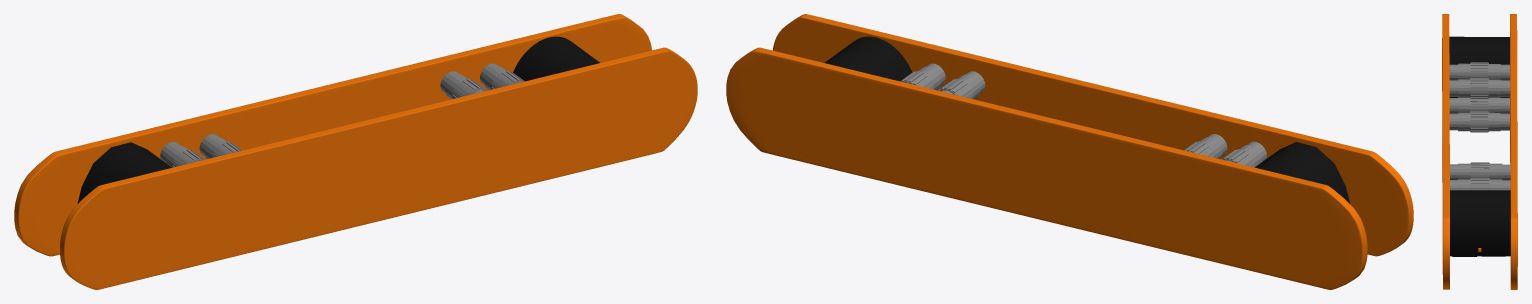
Rendered from zone2.FBX.
3 views of the same model, side by side, from view 1: azimuth 30°, elevation 25°; view 2: azimuth 150°, elevation 25°; view 3: azimuth 270°, elevation 25° (orthographic). The views are drawn at different scales.
Visible parts, largest first — view 1: yellow, rubber, metal; view 2: yellow, rubber, metal; view 3: metal, rubber, yellow.
Boxes of the visible parts, <box> form: yellow: <box>14,14,697,289</box>; rubber: <box>77,36,599,203</box>; metal: <box>160,63,524,167</box>; yellow: <box>726,14,1413,289</box>; rubber: <box>824,36,1349,203</box>; metal: <box>900,63,1266,167</box>; metal: <box>1449,62,1510,190</box>; rubber: <box>1449,36,1510,256</box>; yellow: <box>1442,14,1517,289</box>.
Bounding box in the file's own units: 35.96 × 5.41 × 5.02.
